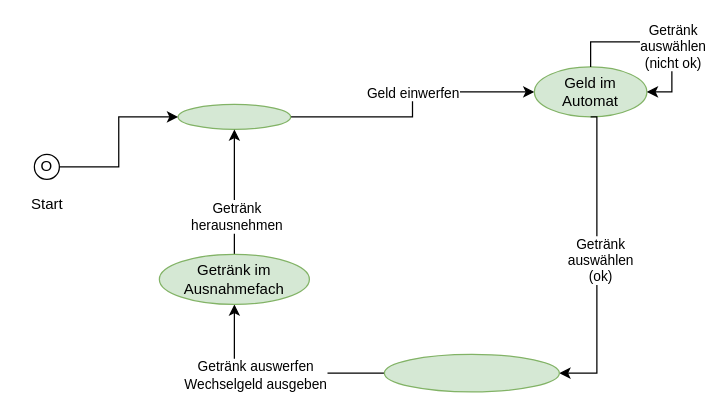
The diagram is 726 pixels wide and 414 high, and some of its shapes have lost their labels. The shapes that lost their labels are listed below. From the top down, each one's centre as x and y in pixels, then its label:
At [234,116]: "Bereit".
At [471,372]: "Getränk ausgewählt".
